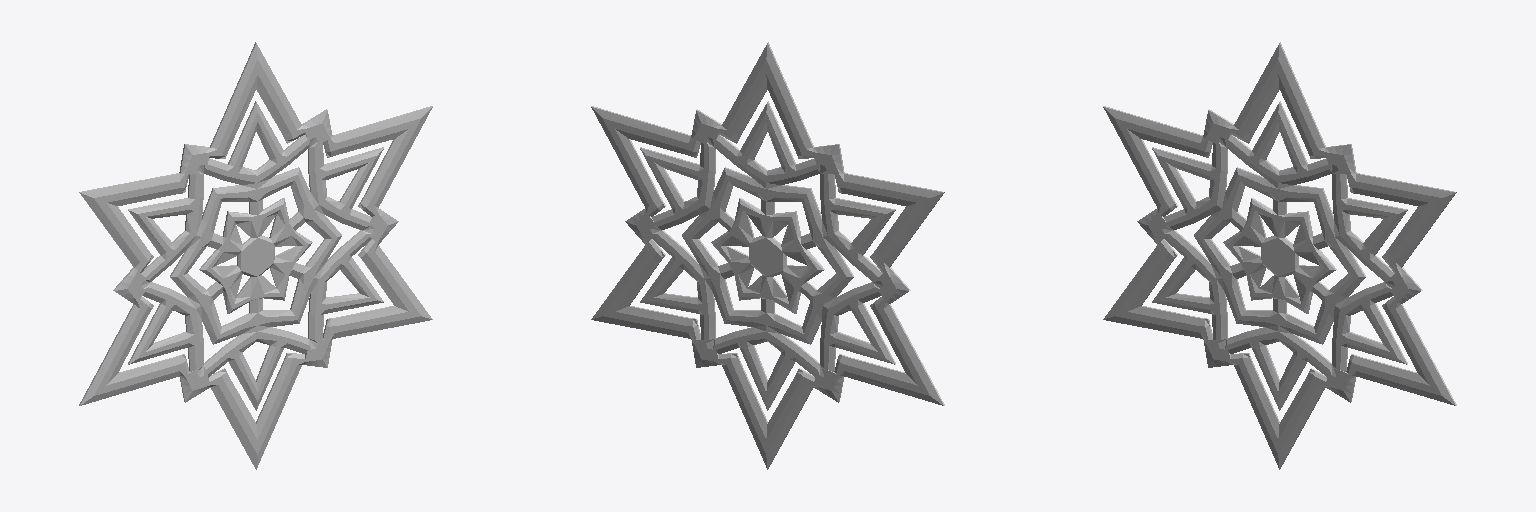
Rendered from snowflake.obj.
3 views of the same model, side by side, from view 1: azimuth 30°, elevation 25°; view 2: azimuth 150°, elevation 25°; view 3: azimuth 330°, elevation 25° (orthographic).
Parts seen in each view (by area): view 1: snowflake; view 2: snowflake; view 3: snowflake.
Boxes of the visible parts, box(x1,y1,x2,y2) form: snowflake: box(79, 42, 432, 469); snowflake: box(591, 42, 944, 469); snowflake: box(1103, 42, 1456, 469).
Bounding box in the file's own units: 3.65 × 4.22 × 0.06.